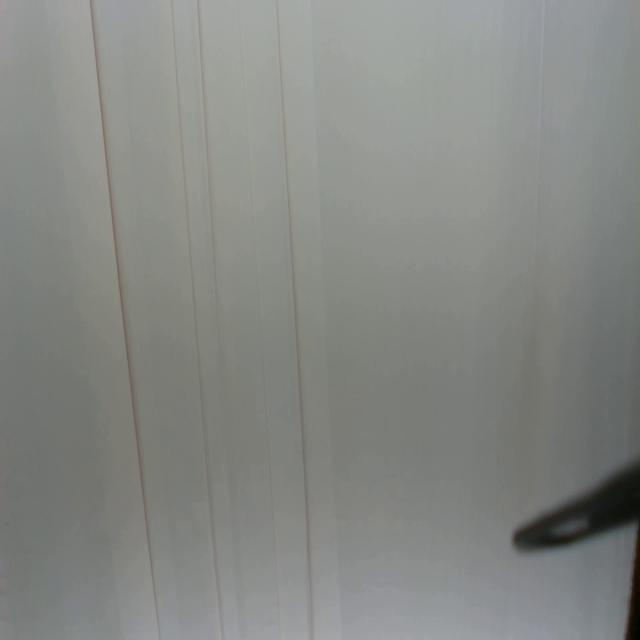crease: (89, 0, 161, 640), (171, 0, 223, 640), (236, 7, 282, 640), (273, 0, 315, 639), (195, 0, 221, 342), (529, 0, 547, 304)
